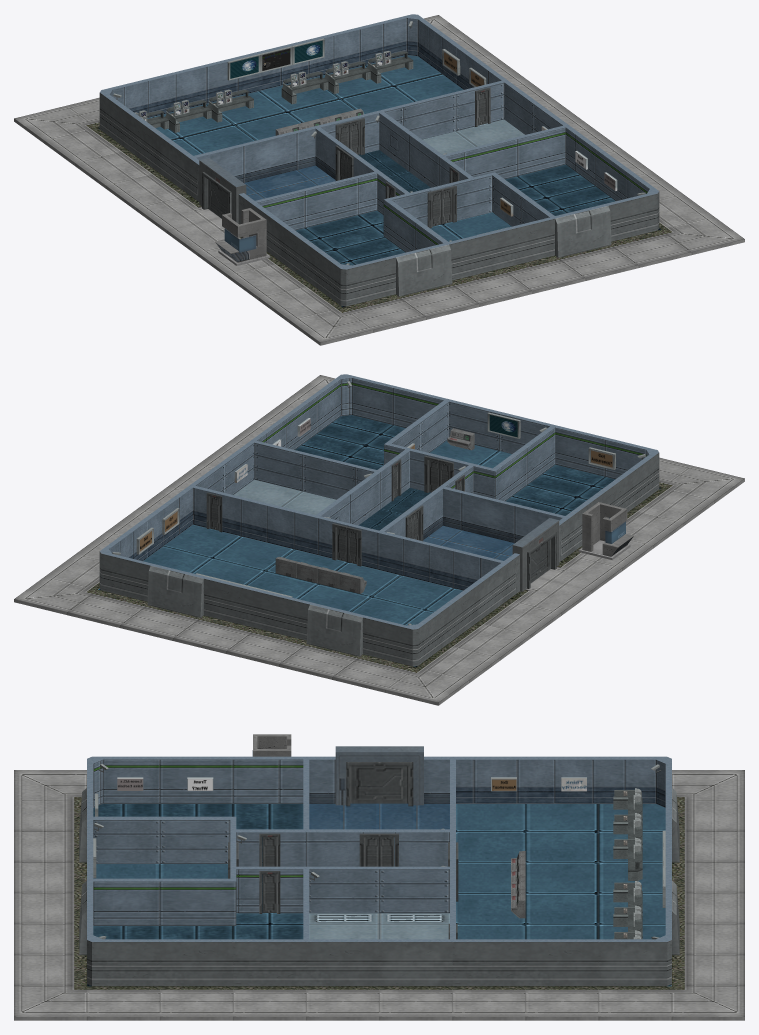
File: office6.fbx
The picture shows the model from 3 angles, top to bottom: view 1: azimuth 30°, elevation 25°; view 2: azimuth 150°, elevation 25°; view 3: azimuth 270°, elevation 25°; orthographic projection. The views are drawn at different scales.
Parts seen in each view (by area): view 1: wall, ground, gpost_structure, entrance, desk6, desk4, desk2, desk5, desk1, blastdoor; view 2: wall, ground, gpost_structure, entrance, blastdoor; view 3: ground, wall, entrance, blastdoor, gpost_structure, desk2, slidingdoor8, desk1, desk6, desk3, desk5.
Part boxes in pixels (x1,y1,x2,y2): wall: (99, 14, 659, 306); ground: (14, 15, 744, 345); gpost_structure: (215, 208, 266, 262); entrance: (199, 158, 246, 223); desk6: (281, 72, 328, 104); desk4: (367, 51, 413, 83); desk2: (207, 90, 253, 122); desk5: (324, 61, 370, 93); desk1: (165, 100, 211, 132); blastdoor: (208, 180, 228, 218); wall: (99, 374, 659, 666); ground: (14, 375, 744, 705); gpost_structure: (582, 502, 633, 556); entrance: (512, 518, 559, 591); blastdoor: (530, 539, 550, 582); ground: (14, 770, 744, 1020); wall: (79, 756, 679, 986); entrance: (335, 746, 423, 805); blastdoor: (350, 766, 408, 803); gpost_structure: (253, 734, 291, 756); desk2: (613, 839, 642, 880); slidingdoor8: (262, 874, 276, 912); desk1: (613, 814, 642, 847); desk6: (613, 882, 642, 915); desk3: (613, 790, 642, 823); desk5: (613, 907, 642, 939).
Bounding box in the file's own units: 3658 × 391 × 4572.
Materials: 14 (14 with a texture image).
